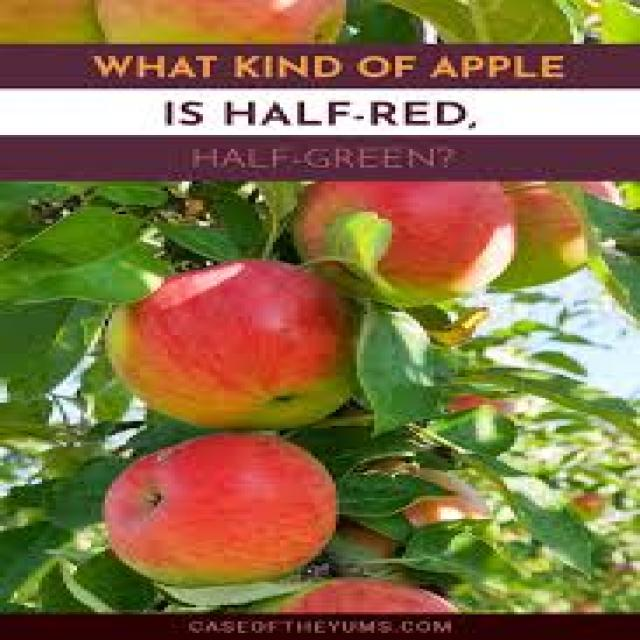Apple: (106, 265, 352, 427), (103, 438, 339, 580), (298, 179, 520, 296), (96, 1, 345, 43), (511, 188, 596, 274), (274, 583, 463, 617)
